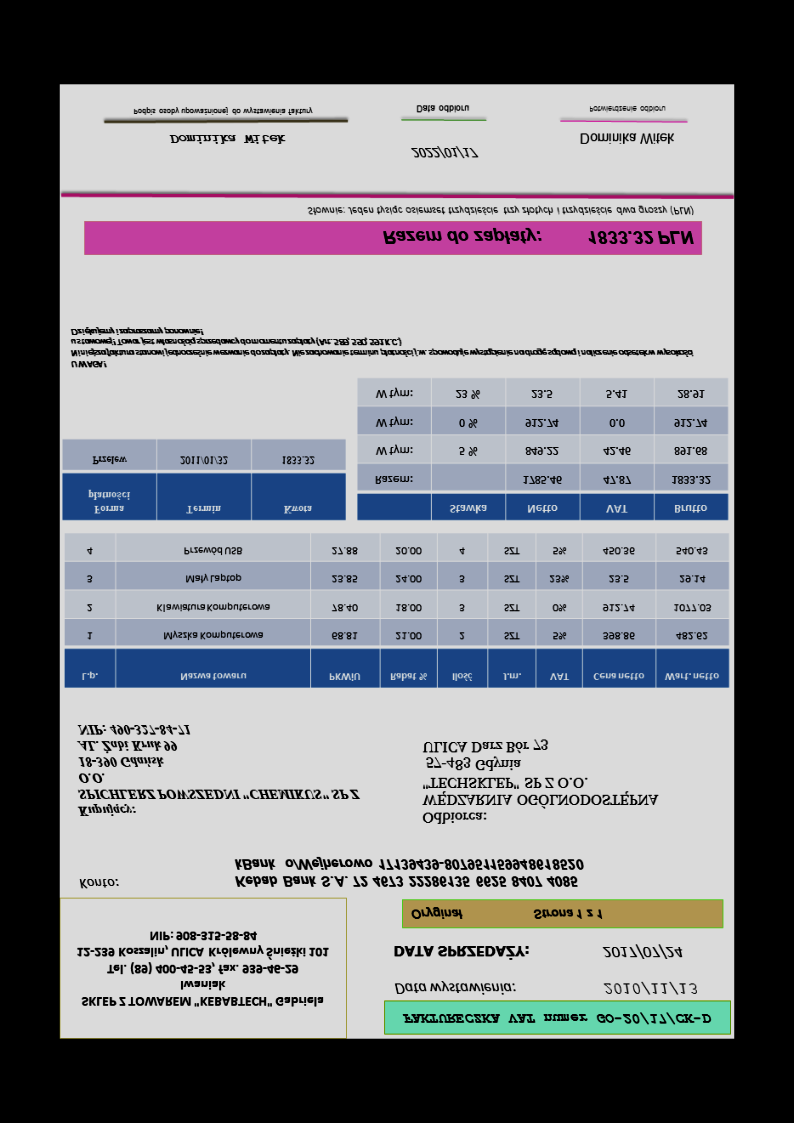Table: (61, 532, 731, 692), (354, 377, 729, 522), (61, 438, 345, 522)
TextBox: (67, 324, 694, 372), (76, 719, 363, 819), (420, 733, 662, 830), (75, 926, 333, 1013), (231, 853, 587, 893), (378, 226, 697, 249), (305, 204, 698, 219), (399, 1012, 717, 1028), (407, 904, 605, 923), (391, 943, 531, 962), (393, 979, 517, 1000), (130, 105, 315, 118), (166, 131, 289, 147), (577, 130, 678, 149), (603, 981, 699, 999), (600, 942, 683, 962), (410, 143, 484, 164), (587, 100, 667, 117), (75, 873, 123, 894), (411, 101, 471, 116)
